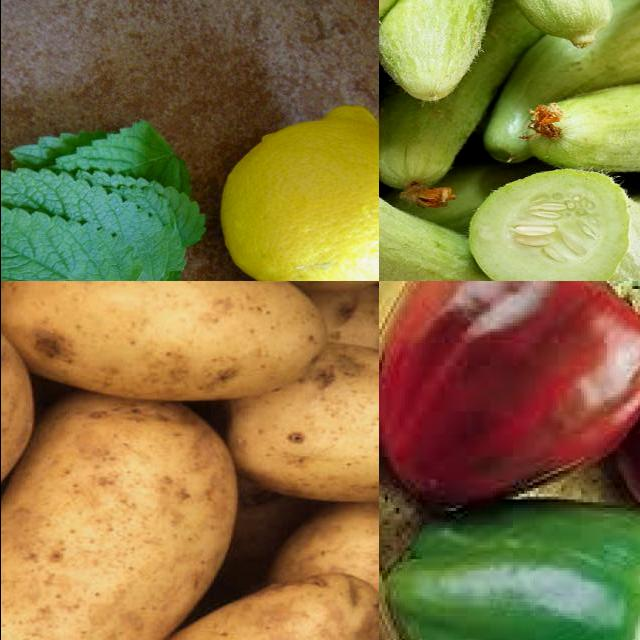bell_pepper: (379, 282, 640, 504), (382, 482, 640, 640)
cucumber: (477, 1, 640, 169), (479, 125, 640, 282), (379, 174, 530, 282), (383, 1, 506, 101), (540, 56, 640, 175)
potato: (1, 400, 237, 640), (1, 282, 337, 400), (241, 346, 379, 504), (100, 576, 379, 640)
